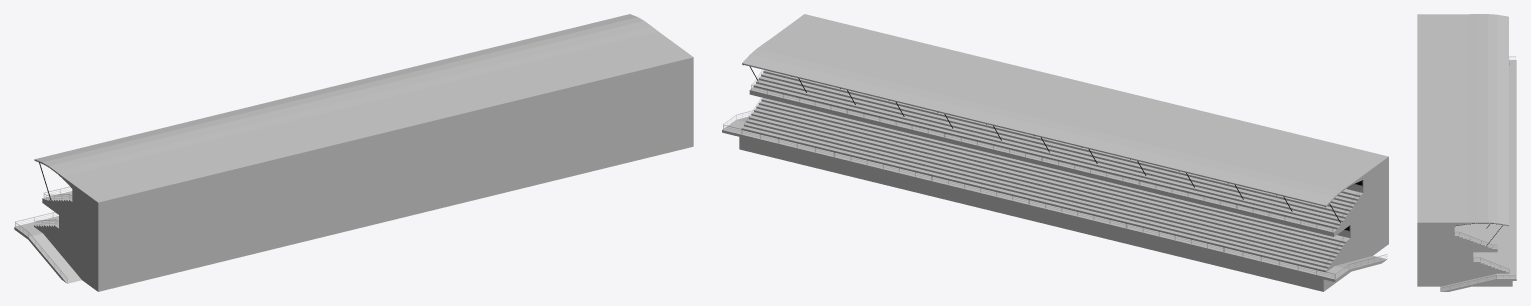
The model's file is Stand-08.obj.
3 renders of one model, left to right at view 1: azimuth 30°, elevation 25°; view 2: azimuth 150°, elevation 25°; view 3: azimuth 270°, elevation 25°, orthographic. The views are drawn at different scales.
Parts seen in each view (by area): view 1: Stand-08_GrandStand-08; view 2: Stand-08_GrandStand-08; view 3: Stand-08_GrandStand-08.
Part boxes in pixels (bbox=[...]): Stand-08_GrandStand-08: bbox=[14, 14, 693, 291]; Stand-08_GrandStand-08: bbox=[722, 14, 1388, 291]; Stand-08_GrandStand-08: bbox=[1417, 14, 1516, 291].
Size of the model in its own units: 144 by 19.71 by 27.57.
